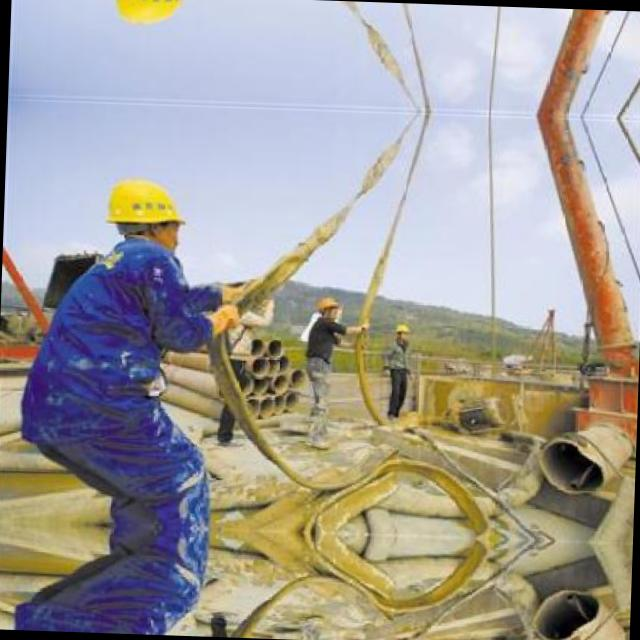helmet: (100, 171, 190, 251), (108, 0, 197, 30), (312, 292, 340, 320), (392, 320, 411, 341)
